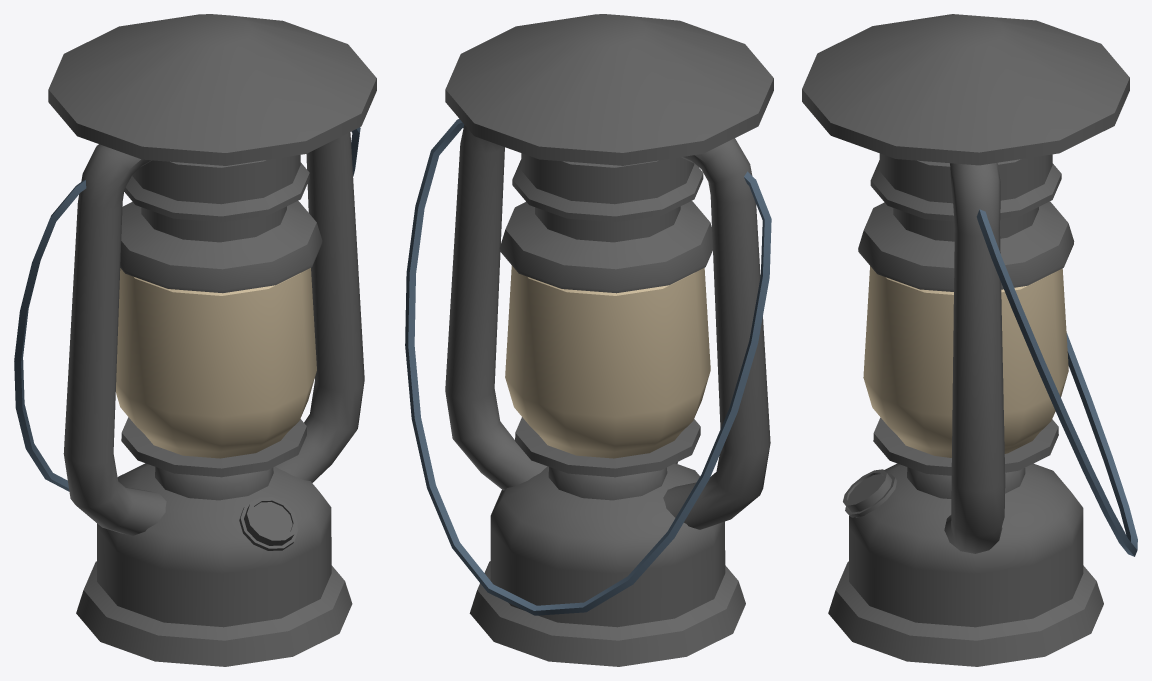
File: Lamp_01.fbx
3 renders of one model, left to right at view 1: azimuth 30°, elevation 25°; view 2: azimuth 150°, elevation 25°; view 3: azimuth 270°, elevation 25°, orthographic.
Parts seen in each view (by area): view 1: Lamp, Lamp_handle; view 2: Lamp, Lamp_handle; view 3: Lamp, Lamp_handle.
Part boxes in pixels (x1,y1,x2,y2): Lamp: [48, 14, 376, 666]; Lamp_handle: [14, 127, 360, 491]; Lamp: [445, 14, 773, 666]; Lamp_handle: [405, 118, 771, 615]; Lamp: [802, 14, 1129, 666]; Lamp_handle: [976, 209, 1137, 556].
Bounding box in the file's own units: 26.08 × 42.49 × 22.41.
